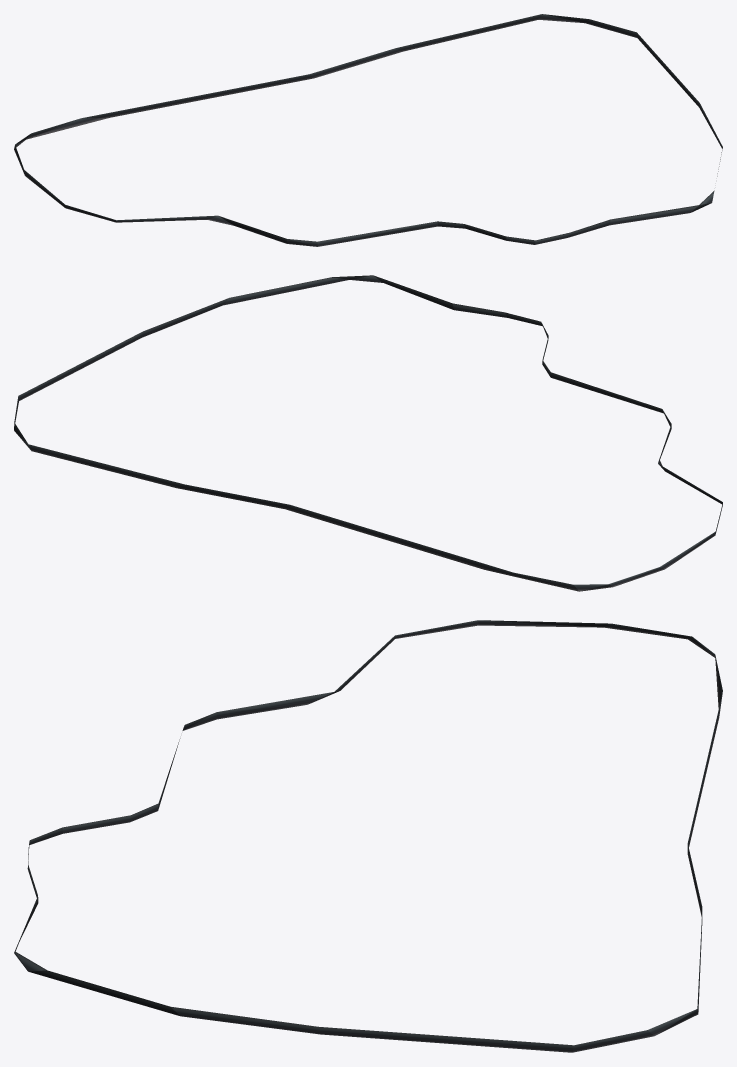
File: ColdZone_1_Lat_2.gltf
3 views of the same model, one above another, from view 1: azimuth 30°, elevation 25°; view 2: azimuth 150°, elevation 25°; view 3: azimuth 270°, elevation 25° (orthographic). The views are drawn at different scales.
Visible parts, largest first — view 1: ColdZone_1_Lat_2; view 2: ColdZone_1_Lat_2; view 3: ColdZone_1_Lat_2.
Part boxes in pixels (x1,y1,x2,y2): ColdZone_1_Lat_2: [14, 14, 722, 246]; ColdZone_1_Lat_2: [14, 275, 722, 591]; ColdZone_1_Lat_2: [14, 620, 722, 1052].
Size of the model in its own units: 113 by 1.21 by 79.18.
1 material, 1 textured.
